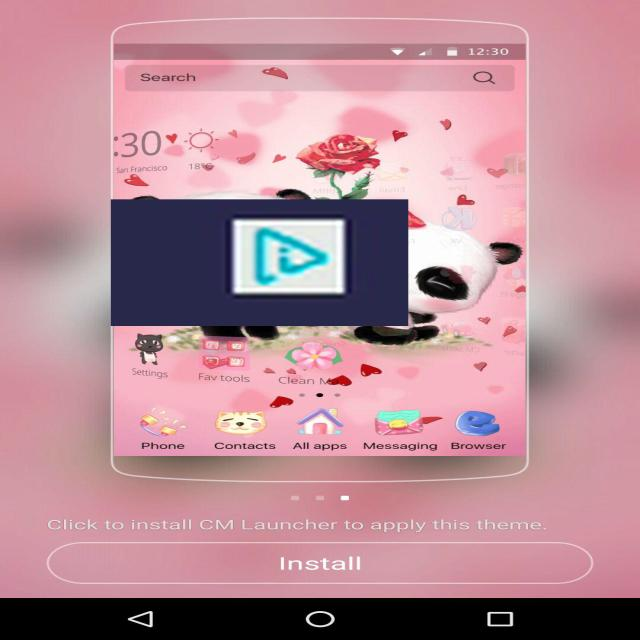sneaking: (111, 199, 408, 326)
